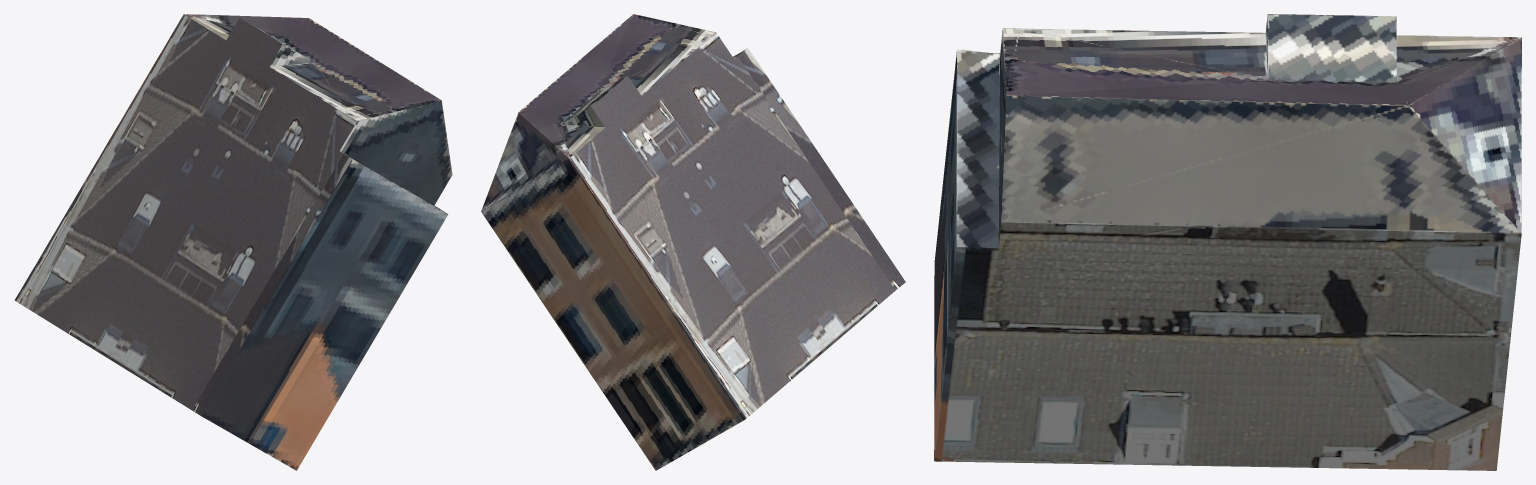
3 views of the same model, side by side, from view 1: azimuth 30°, elevation 25°; view 2: azimuth 150°, elevation 25°; view 3: azimuth 270°, elevation 25° (orthographic). The views are drawn at different scales.
Visible parts, largest first — view 1: BAG_0599100000688752 (×3); view 2: BAG_0599100000688752 (×4); view 3: BAG_0599100000688752 (×4).
Part boxes in pixels (x1,y1,x2,y2): BAG_0599100000688752 (×3): (14, 14, 452, 470); BAG_0599100000688752 (×4): (481, 14, 905, 470); BAG_0599100000688752 (×4): (934, 14, 1521, 470).
Size of the model in its own units: 11.36 by 13.04 by 12.97.
1 material, 1 textured.
